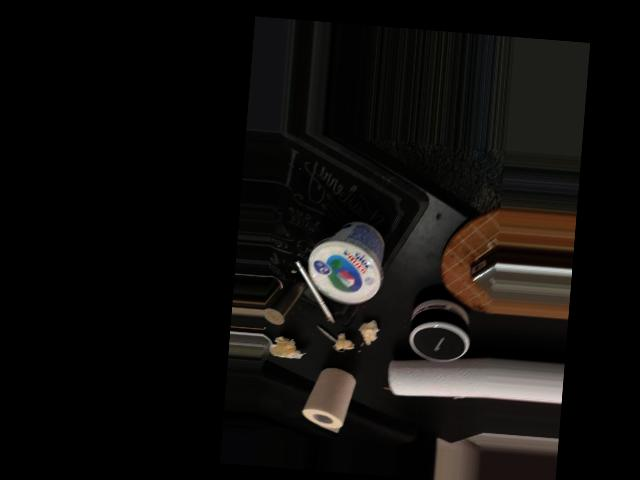cotage: (305, 212, 383, 301)
